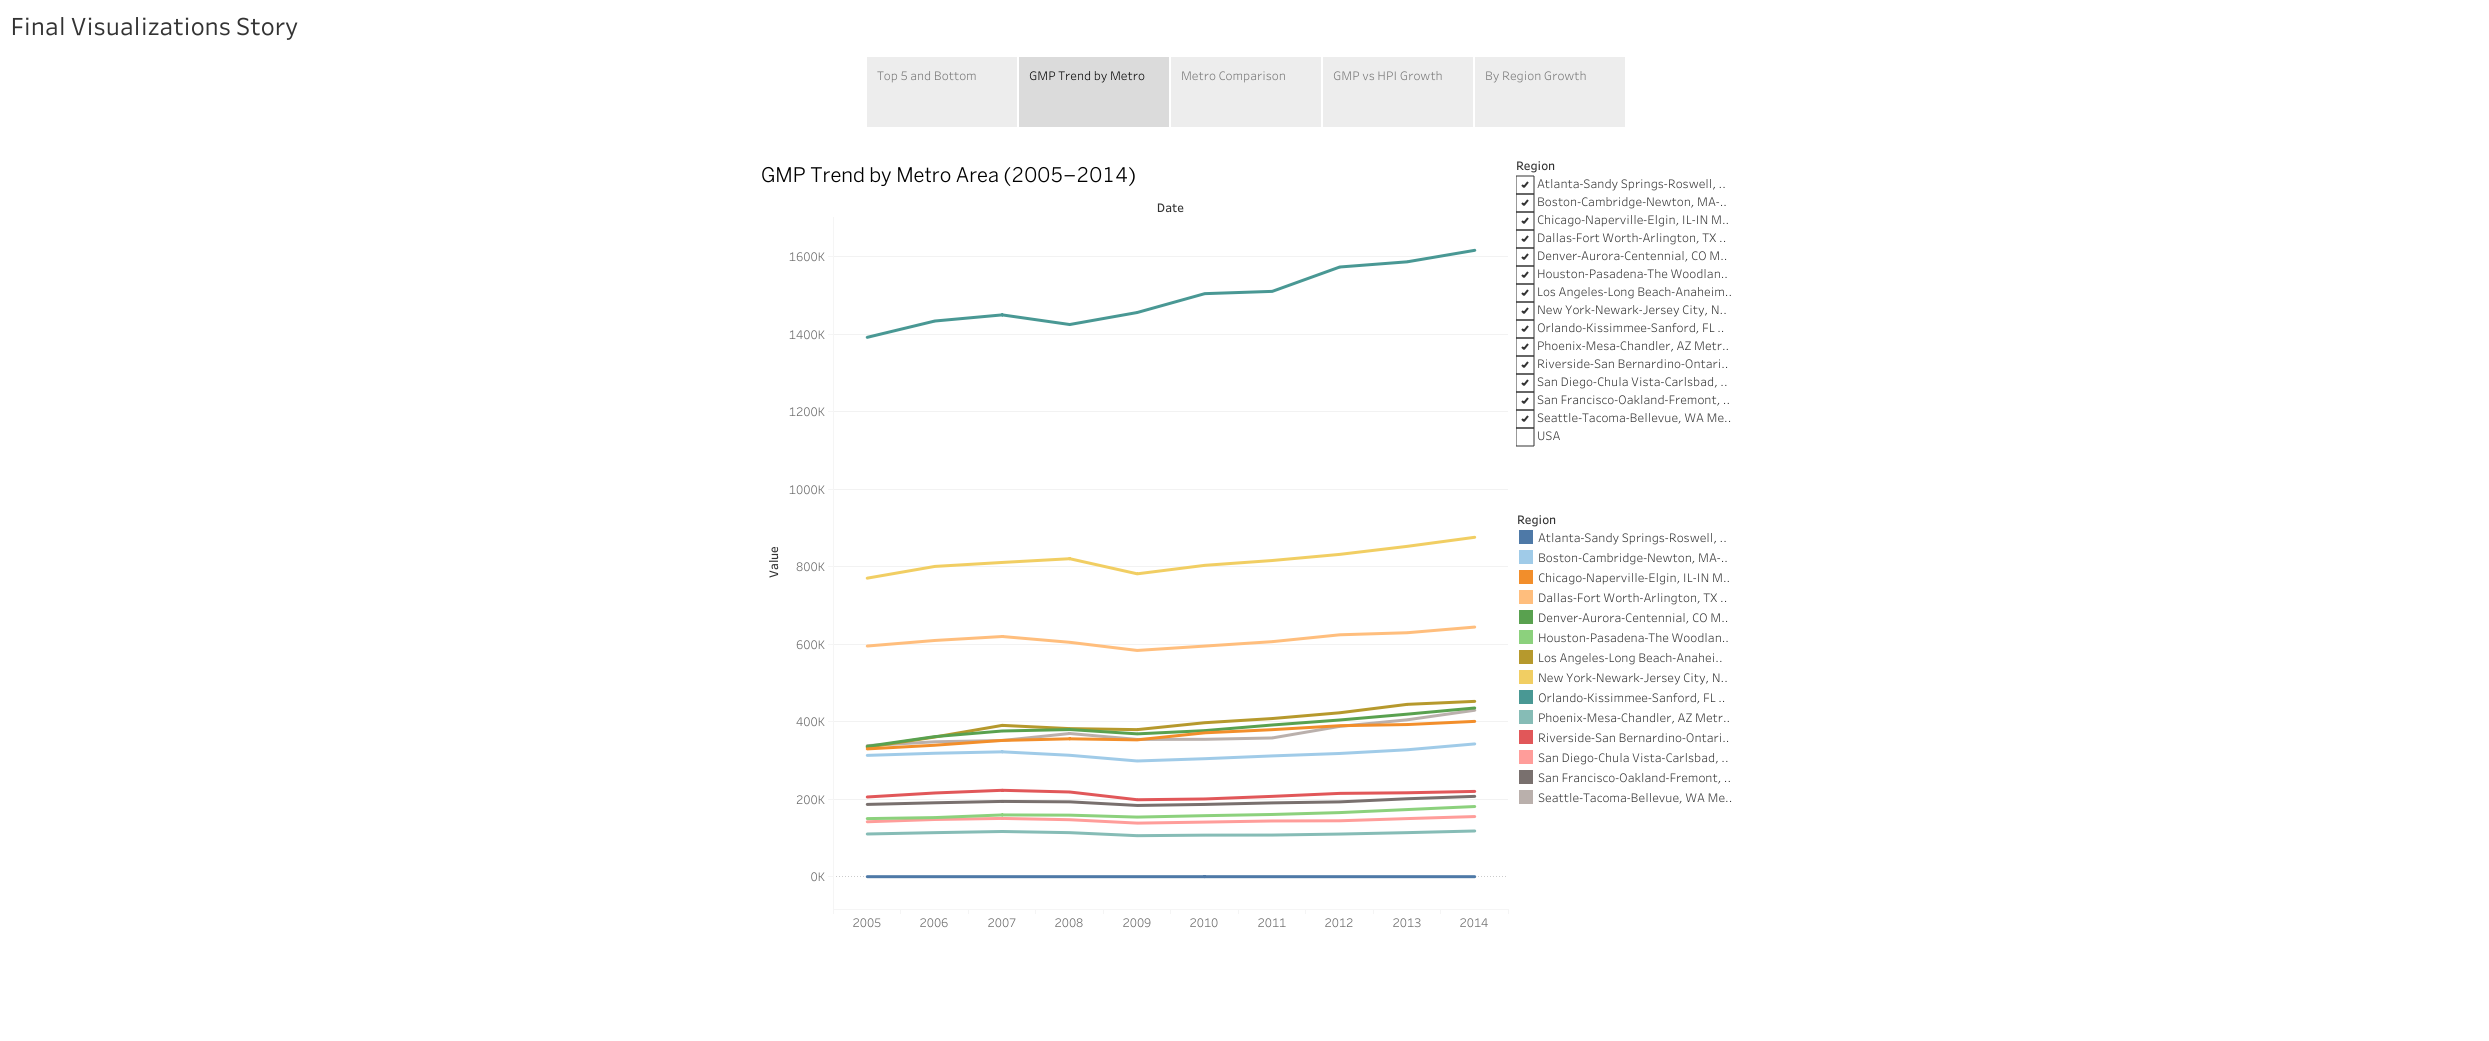

Layout of this report page (visuals, bound fields, positions):
{"tool":"tableau","page":{"name":"Dashboard 2","canvas":[1000,800],"ordinal":1},"visuals":[{"type":"worksheet","title":"GMP Trend by Metro","mark":"Automatic","rows":["Value"],"cols":["Date"],"box":[8,8,759,784]},{"type":"filter","title":"GMP Trend by Metro","param":"[federated.0neb5o51ny1kbg1dho3cj0hr51z0].[none:Region:nk]","box":[767,8,225,400]},{"type":"legend","title":"GMP Trend by Metro","param":"[federated.0neb5o51ny1kbg1dho3cj0hr51z0].[none:Region:nk]","box":[767,408,225,384]}]}

Visuals, with their boxes on the page's 1000x800 design canvas (x1, y1, x2, y2). These are canvas units, not pixel positions in the 2489x1041 screenshot, which may show the page scaled, cropped or inside an application window:
"GMP Trend by Metro" worksheet: 8,8,767,792
"GMP Trend by Metro" filter: 767,8,992,408
"GMP Trend by Metro" legend: 767,408,992,792
